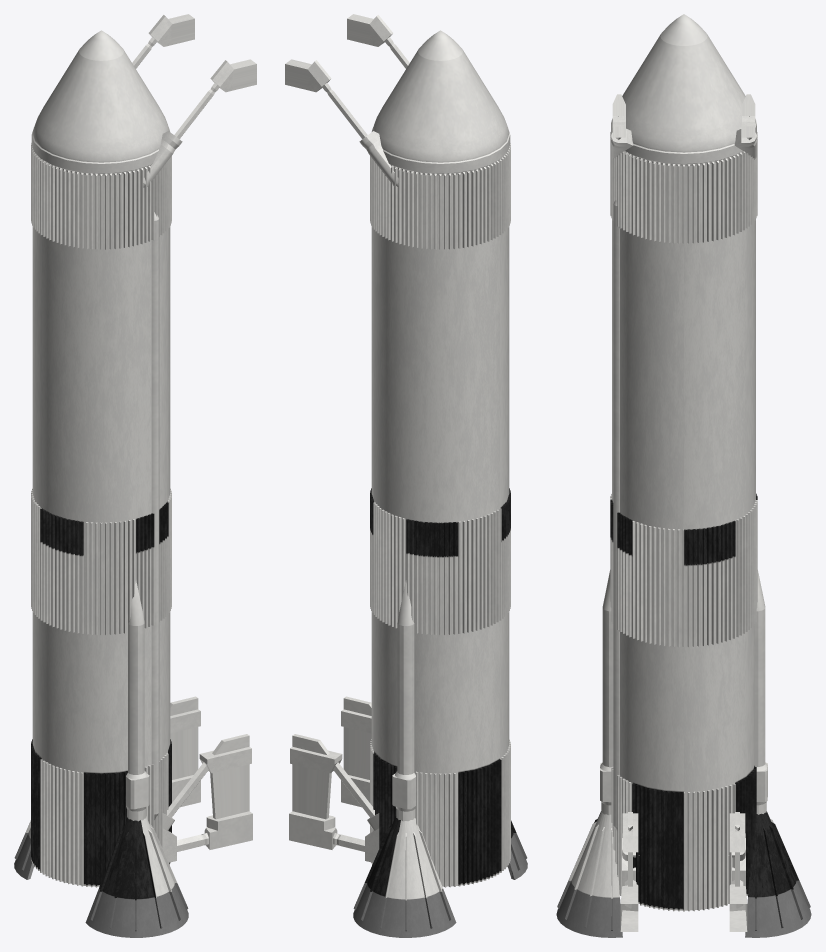
The model's file is ksprocket.fbx.
3 views of the same model, side by side, from view 1: azimuth 30°, elevation 25°; view 2: azimuth 150°, elevation 25°; view 3: azimuth 270°, elevation 25° (orthographic). The views are drawn at different scales.
Parts seen in each view (by area): view 1: tank.012, bits.008, anchor, fairing.006; view 2: tank.012, bits.008, anchor, fairing.006; view 3: tank.012, bits.008, fairing.006, anchor.
Boxes of the visible parts, bbox=[...] form: tank.012: bbox=[31, 143, 171, 887]; bits.008: bbox=[31, 30, 219, 862]; anchor: bbox=[148, 14, 256, 849]; fairing.006: bbox=[14, 816, 188, 937]; tank.012: bbox=[370, 143, 510, 887]; bits.008: bbox=[322, 30, 510, 862]; anchor: bbox=[285, 14, 393, 849]; fairing.006: bbox=[353, 816, 527, 937]; tank.012: bbox=[610, 132, 757, 911]; bits.008: bbox=[600, 14, 767, 908]; fairing.006: bbox=[556, 811, 811, 937]; anchor: bbox=[612, 94, 755, 931].
Bounding box in the file's own units: 1011 × 4558 × 1170.
